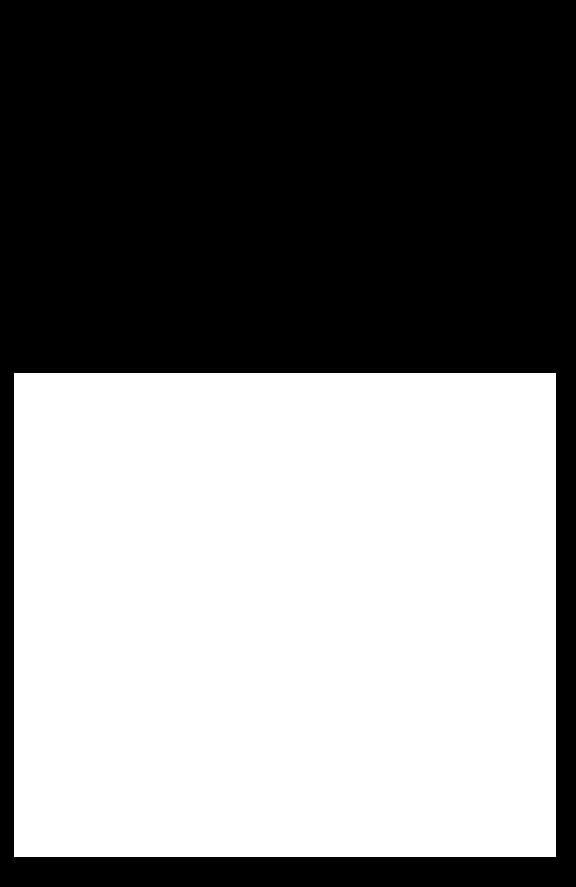table: (14, 373, 555, 856)
